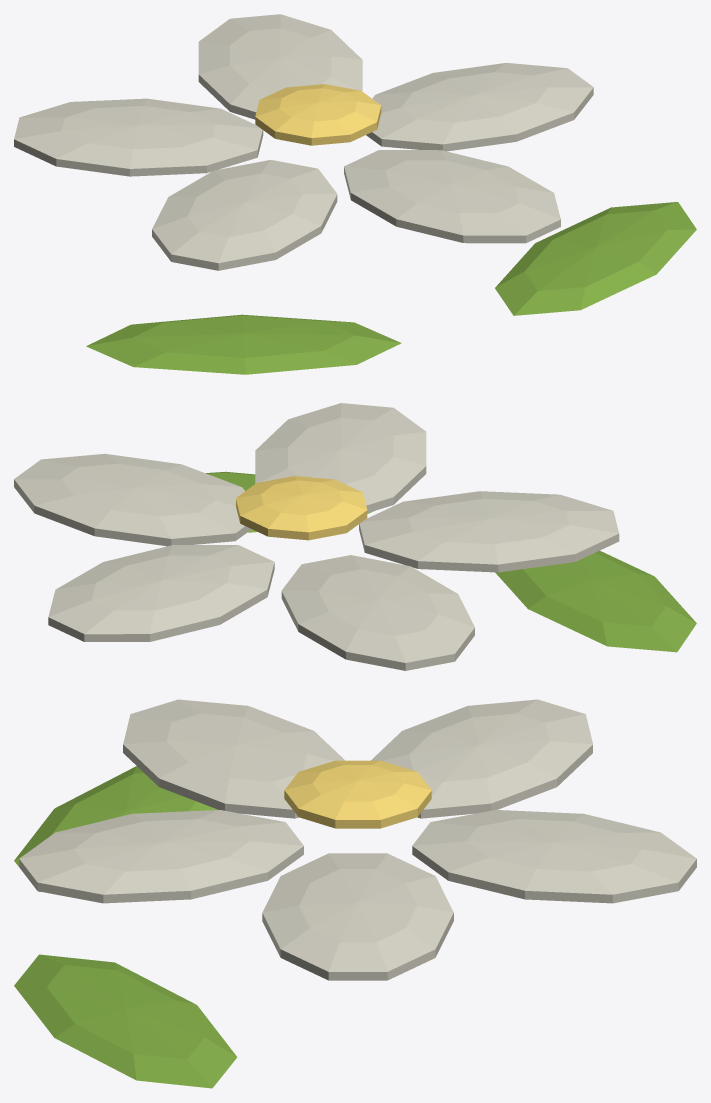
File: SmallFlower_A.fbx
3 renders of one model, top to bottom at view 1: azimuth 30°, elevation 25°; view 2: azimuth 150°, elevation 25°; view 3: azimuth 270°, elevation 25°, orthographic. The views are drawn at different scales.
Parts seen in each view (by area): view 1: Petal.002, Petal.004, Petal.003, Petal, Leaf, Leaf.001, Petal.001, Center; view 2: Petal.003, Petal.001, Petal.002, Petal, Petal.004, Leaf, Center, Leaf.001; view 3: Petal.001, Petal.004, Petal, Leaf.001, Petal.002, Petal.003, Center, Leaf.
Boxes of the visible parts, <box> form: Petal.002: <box>14,98,263,176</box>; Petal.004: <box>344,150,560,243</box>; Petal.003: <box>152,160,337,270</box>; Petal: <box>366,63,593,151</box>; Leaf: <box>86,314,401,374</box>; Leaf.001: <box>495,202,696,315</box>; Petal.001: <box>198,14,362,119</box>; Center: <box>255,84,381,145</box>; Petal.003: <box>359,491,619,572</box>; Petal.001: <box>48,545,274,641</box>; Petal.002: <box>281,555,474,670</box>; Petal: <box>14,453,251,546</box>; Petal.004: <box>255,403,426,512</box>; Leaf: <box>495,550,696,652</box>; Center: <box>236,476,367,540</box>; Leaf.001: <box>206,471,373,532</box>; Petal.001: <box>412,810,696,903</box>; Petal.004: <box>19,810,303,903</box>; Petal: <box>262,853,453,980</box>; Leaf.001: <box>14,954,237,1088</box>; Petal.002: <box>371,699,592,818</box>; Petal.003: <box>123,699,344,818</box>; Center: <box>284,760,431,828</box>; Leaf: <box>14,766,218,891</box>.
Size of the model in its own units: 6.06 by 1.33 by 5.29.
